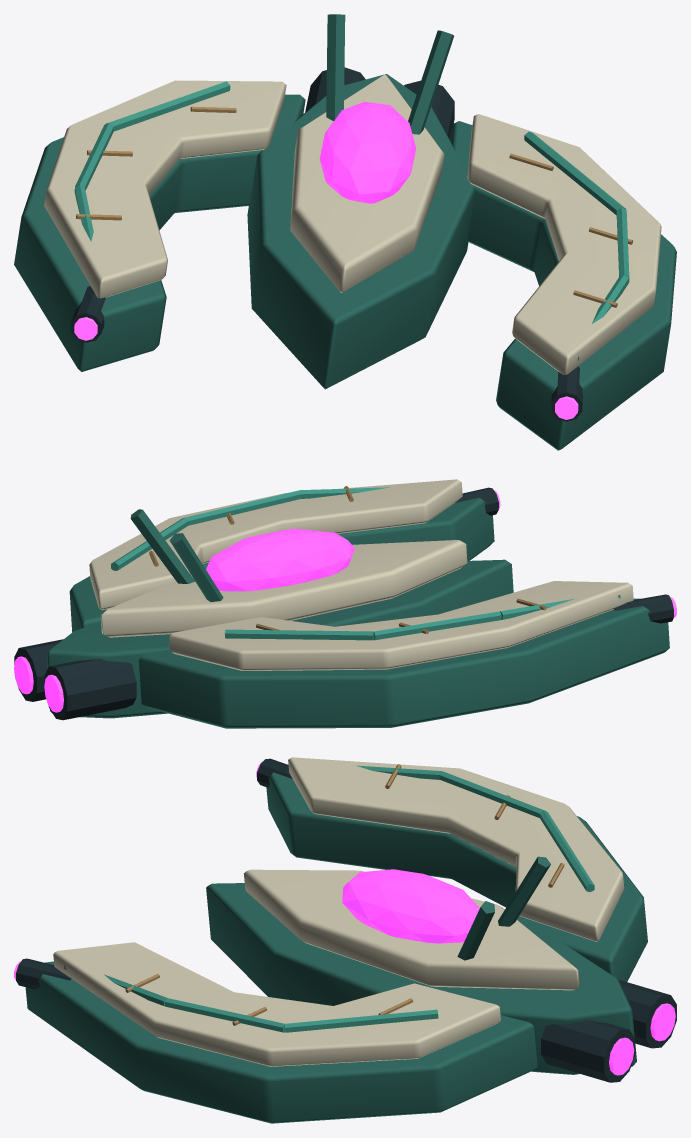
The model's file is veyr_frigate.glb.
3 views of the same model, one above another, from view 1: azimuth 30°, elevation 25°; view 2: azimuth 150°, elevation 25°; view 3: azimuth 270°, elevation 25° (orthographic). The views are drawn at different scales.
Parts seen in each view (by area): view 1: Veyr | central keel, Veyr | ivory blade plate 1, Veyr | ivory blade plate -1, Veyr | swept blade -1, Veyr | swept blade 1, Veyr | dorsal shell, Veyr | faceted command crystal, Veyr | dorsal spine fin, Veyr | dorsal spine fin.001, Veyr | inlaid jade conduit, Veyr | inlaid jade conduit.003, Veyr | plasma emitter housing.001 (+5 smaller); view 2: Veyr | swept blade 1, Veyr | ivory blade plate 1, Veyr | dorsal shell, Veyr | ivory blade plate -1, Veyr | central keel, Veyr | faceted command crystal, Veyr | swept blade -1, Veyr | aft drive housing.001, Veyr | inlaid jade conduit.003, Veyr | dorsal spine fin, Veyr | dorsal spine fin.001, Veyr | inlaid jade conduit.004 (+9 smaller); view 3: Veyr | swept blade -1, Veyr | ivory blade plate -1, Veyr | ivory blade plate 1, Veyr | central keel, Veyr | dorsal shell, Veyr | swept blade 1, Veyr | faceted command crystal, Veyr | aft drive housing, Veyr | aft drive housing.001, Veyr | inlaid jade conduit, Veyr | dorsal spine fin.001, Veyr | inlaid jade conduit.001 (+8 smaller).
Part boxes in pixels (bbox=[...]): Veyr | central keel: bbox=[247, 74, 475, 389]; Veyr | ivory blade plate 1: bbox=[44, 80, 286, 298]; Veyr | ivory blade plate -1: bbox=[467, 114, 661, 374]; Veyr | swept blade -1: bbox=[450, 121, 676, 450]; Veyr | swept blade 1: bbox=[14, 94, 305, 371]; Veyr | dorsal shell: bbox=[290, 74, 444, 292]; Veyr | faceted command crystal: bbox=[319, 101, 416, 203]; Veyr | dorsal spine fin: bbox=[408, 30, 453, 134]; Veyr | dorsal spine fin.001: bbox=[326, 14, 345, 121]; Veyr | inlaid jade conduit: bbox=[524, 131, 625, 215]; Veyr | inlaid jade conduit.003: bbox=[106, 81, 230, 131]; Veyr | plasma emitter housing.001: bbox=[71, 286, 105, 342]; Veyr | swept blade 1: bbox=[139, 598, 669, 728]; Veyr | ivory blade plate 1: bbox=[169, 581, 633, 670]; Veyr | dorsal shell: bbox=[101, 540, 467, 637]; Veyr | ivory blade plate -1: bbox=[89, 479, 462, 610]; Veyr | central keel: bbox=[46, 559, 513, 718]; Veyr | faceted command crystal: bbox=[206, 528, 355, 591]; Veyr | swept blade -1: bbox=[69, 497, 494, 632]; Veyr | aft drive housing.001: bbox=[44, 659, 136, 720]; Veyr | inlaid jade conduit.003: bbox=[224, 629, 374, 640]; Veyr | dorsal spine fin: bbox=[130, 509, 195, 583]; Veyr | dorsal spine fin.001: bbox=[169, 533, 223, 601]; Veyr | inlaid jade conduit.004: bbox=[373, 611, 501, 640]; Veyr | swept blade -1: bbox=[25, 961, 537, 1123]; Veyr | ivory blade plate -1: bbox=[53, 942, 500, 1066]; Veyr | ivory blade plate 1: bbox=[288, 757, 624, 941]; Veyr | central keel: bbox=[206, 883, 636, 1074]; Veyr | dorsal shell: bbox=[243, 869, 579, 990]; Veyr | swept blade 1: bbox=[266, 772, 647, 981]; Veyr | faceted command crystal: bbox=[342, 869, 479, 943]; Veyr | aft drive housing: bbox=[541, 1020, 635, 1082]; Veyr | aft drive housing.001: bbox=[619, 980, 676, 1048]; Veyr | inlaid jade conduit: bbox=[284, 1009, 438, 1032]; Veyr | dorsal spine fin.001: bbox=[498, 856, 550, 926]; Veyr | inlaid jade conduit.001: bbox=[165, 998, 285, 1032].
Size of the model in its own units: 3.01 by 1.05 by 3.26.
